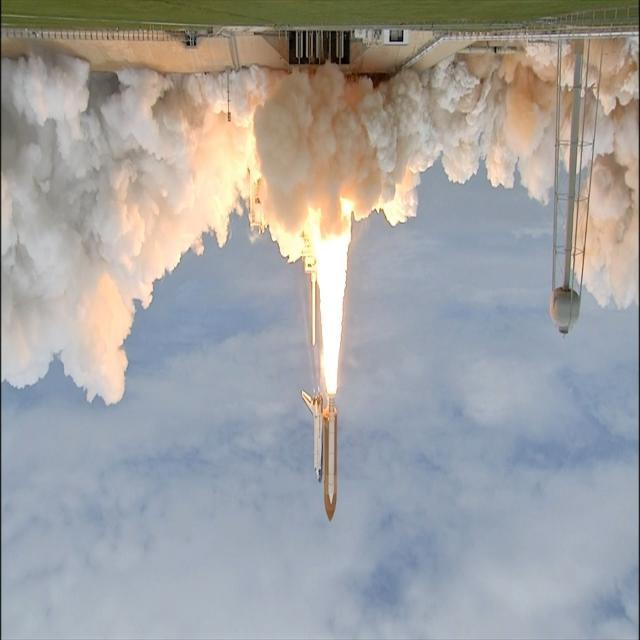Missile: (328, 400, 337, 510)
